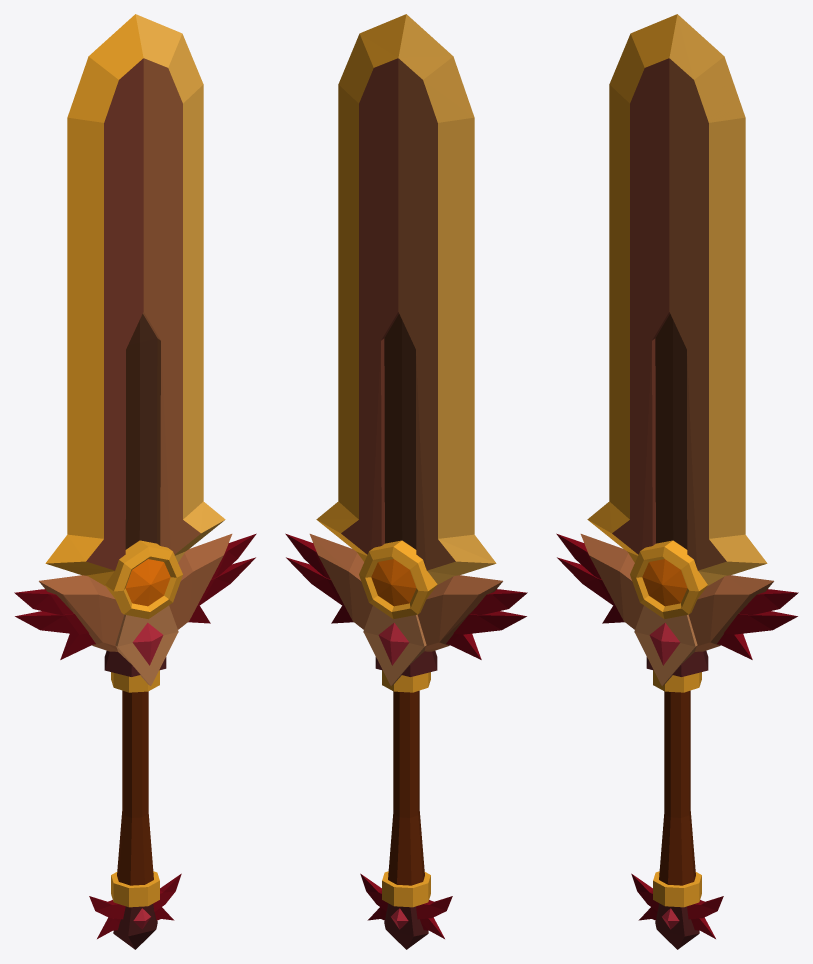
File: Sword 04.fbx
The picture shows the model from 3 angles, left to right: view 1: azimuth 30°, elevation 25°; view 2: azimuth 150°, elevation 25°; view 3: azimuth 330°, elevation 25°; orthographic projection.
Visible parts, largest first — view 1: Sword_04; view 2: Sword_04; view 3: Sword_04.
Part boxes in pixels (bbox=[...]): Sword_04: bbox=[14, 14, 256, 949]; Sword_04: bbox=[285, 14, 527, 949]; Sword_04: bbox=[556, 14, 798, 949].
Bounding box in the file's own units: 47.57 × 10.98 × 175.
